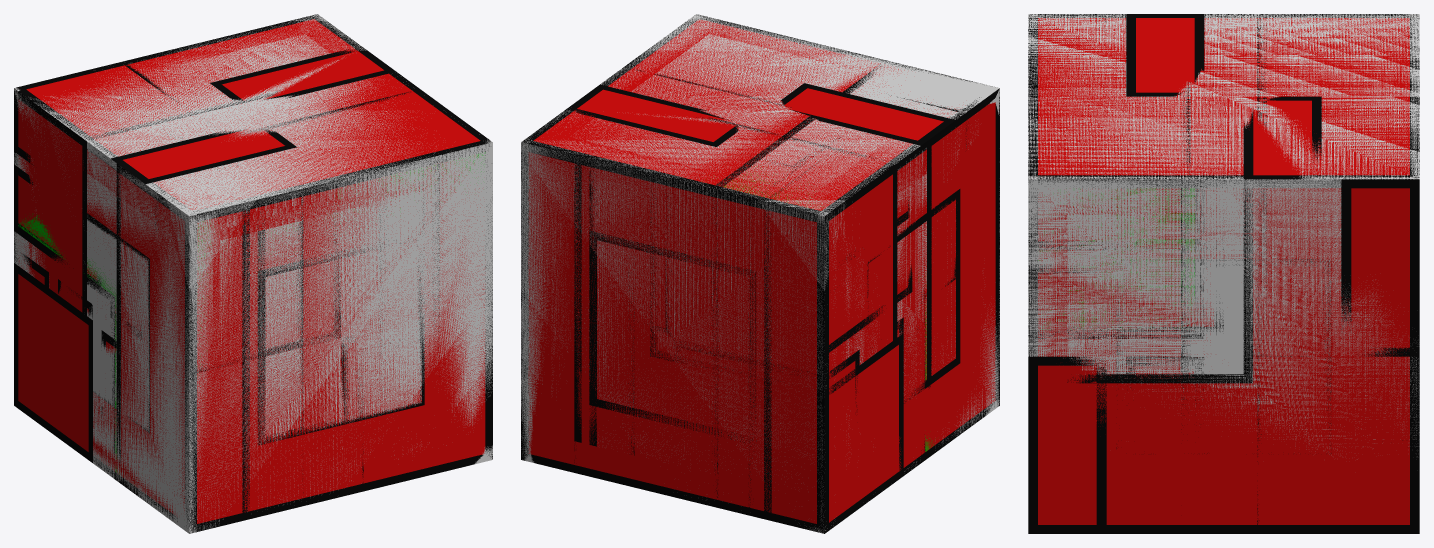
Rendered from Cubes.fbx.
The picture shows the model from 3 angles, left to right: view 1: azimuth 30°, elevation 25°; view 2: azimuth 150°, elevation 25°; view 3: azimuth 270°, elevation 25°; orthographic projection. The views are drawn at different scales.
Parts seen in each view (by area): view 1: Beat, T-Fighter_Cube, Cell_Cube_Outline, Illuminator_Cube, Sandwich_Cube_02, B&W_Cube, ZigZag_Cube, Cube, Sandwich_Cube; view 2: T-Fighter_Cube, Beat, Sandwich_Cube_02, Illuminator_Cube, Cell_Cube_Outline, Cube, B&W_Cube, ZigZag_Cube, Sandwich_Cube; view 3: Beat, B&W_Cube, ZigZag_Cube, Cube, T-Fighter_Cube, Cell_Cube_Outline, Illuminator_Cube, Sandwich_Cube_02.
Boxes of the visible parts, x1,y1,x2,y2 form: Beat: (14,14,492,533); T-Fighter_Cube: (14,17,483,531); Cell_Cube_Outline: (14,16,492,531); Illuminator_Cube: (14,16,483,531); Sandwich_Cube_02: (14,14,492,533); B&W_Cube: (14,14,486,484); ZigZag_Cube: (14,46,414,533); Cube: (31,19,479,524); Sandwich_Cube: (118,64,484,525); T-Fighter_Cube: (521,18,999,523); Beat: (521,14,999,533); Sandwich_Cube_02: (521,14,999,532); Illuminator_Cube: (526,17,994,522); Cell_Cube_Outline: (521,16,999,531); Cube: (529,16,967,521); B&W_Cube: (521,112,999,533); ZigZag_Cube: (566,83,993,417); Sandwich_Cube: (528,22,945,528); Beat: (1028,14,1419,459); B&W_Cube: (1031,177,1419,533); ZigZag_Cube: (1028,14,1419,533); Cube: (1028,18,1419,175); T-Fighter_Cube: (1028,14,1419,533); Cell_Cube_Outline: (1028,14,1419,461); Illuminator_Cube: (1028,14,1418,458); Sandwich_Cube_02: (1028,14,1419,459).
Size of the model in its own units: 1 by 1 by 1.
